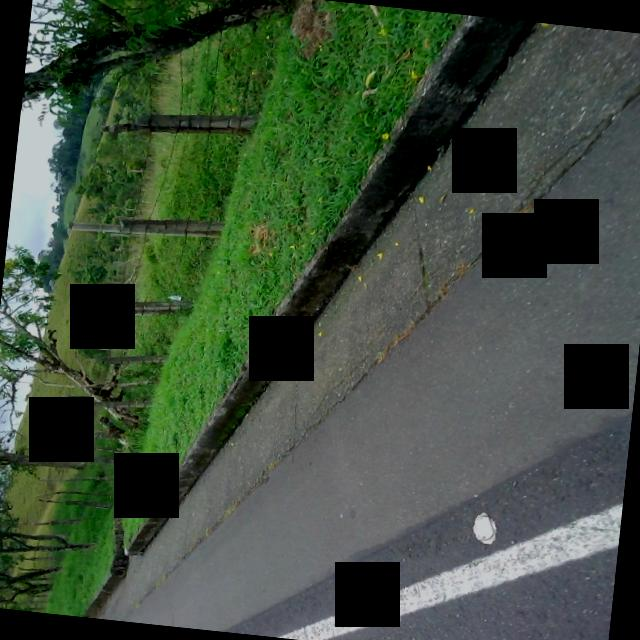DITCH: (84, 0, 640, 640), (107, 0, 640, 640), (120, 0, 640, 640)
